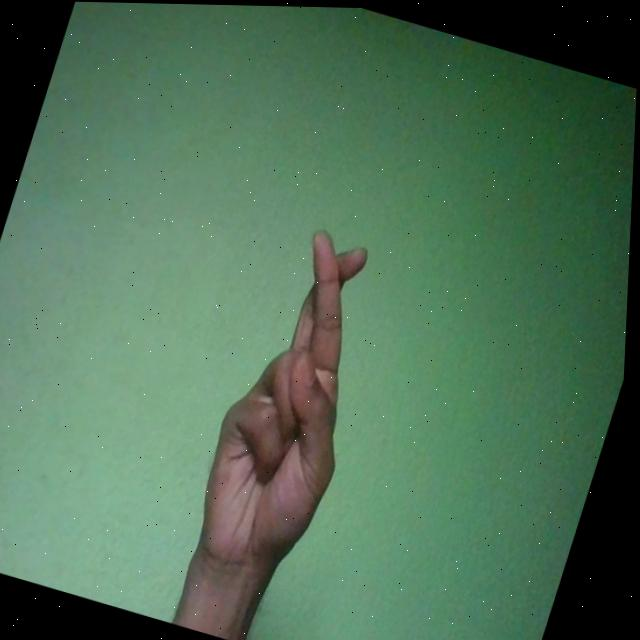Good Luck: (182, 215, 407, 595)
